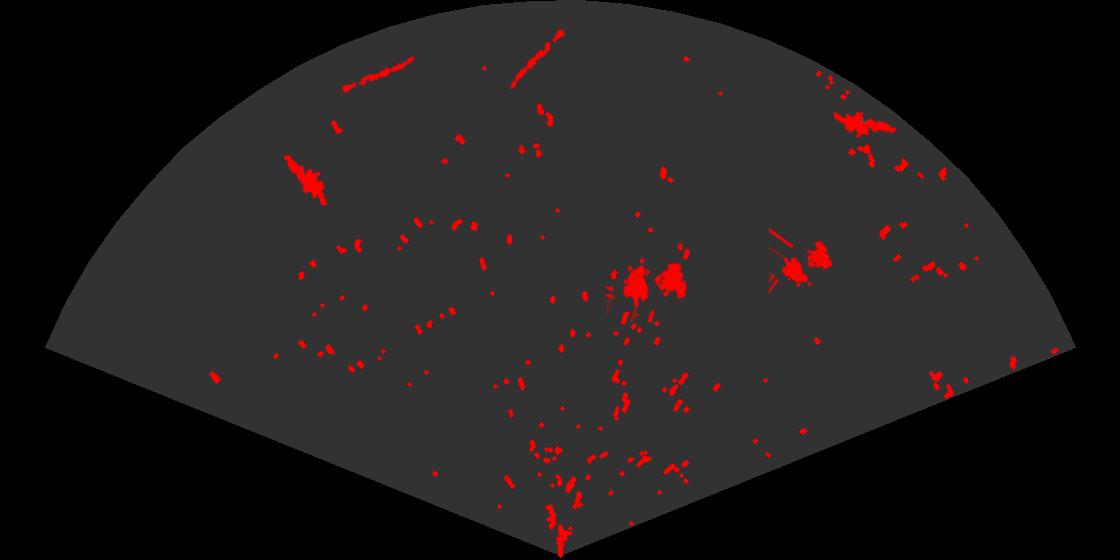cage: (606, 256, 689, 322), (769, 226, 834, 295)
chain: (509, 20, 571, 91), (337, 55, 417, 95)
frogman: (282, 153, 329, 205), (834, 110, 898, 140)
